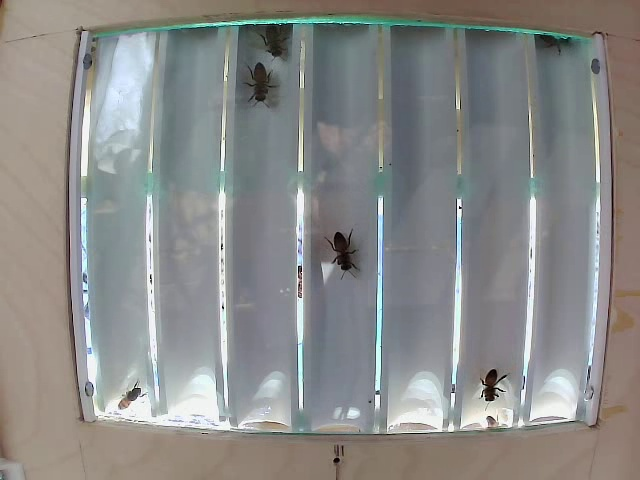bee: (320, 226, 361, 276), (244, 69, 283, 112), (262, 20, 292, 64)
